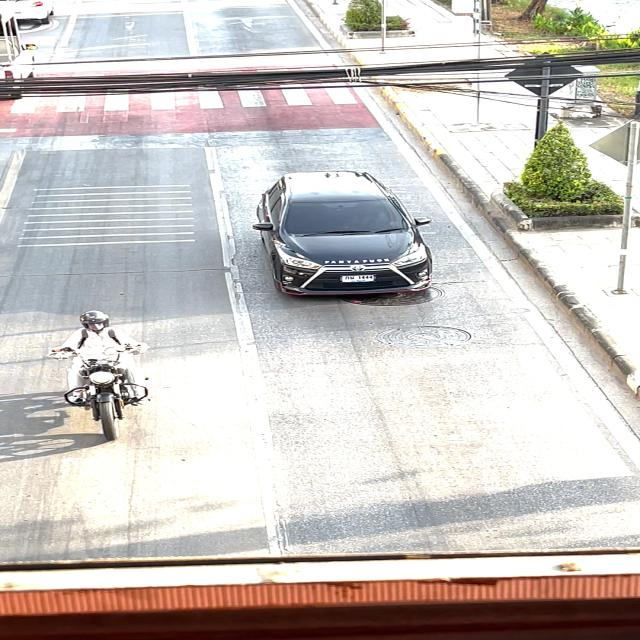car: (232, 162, 454, 307)
